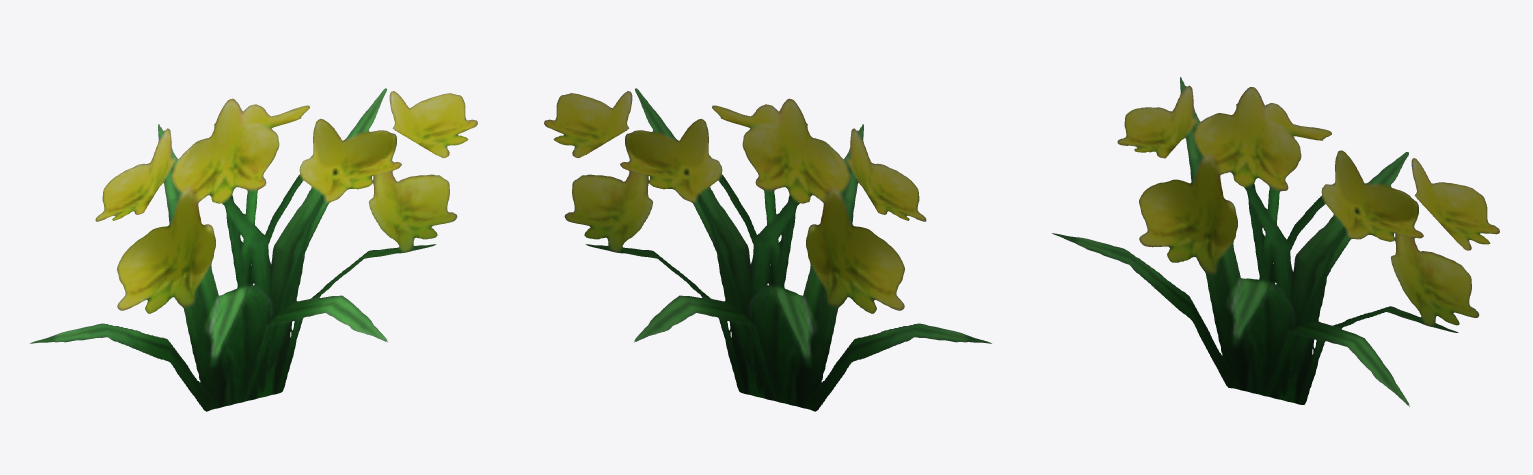
3 views of the same model, side by side, from view 1: azimuth 30°, elevation 25°; view 2: azimuth 150°, elevation 25°; view 3: azimuth 330°, elevation 25° (orthographic).
Parts seen in each view (by area): view 1: 草丛007; view 2: 草丛007; view 3: 草丛007.
Boxes of the visible parts, x1,y1,x2,y2 form: 草丛007: [30, 88, 477, 411]; 草丛007: [544, 88, 991, 411]; 草丛007: [1052, 77, 1499, 406].
Bounding box in the file's own units: 112 × 72.81 × 1.6e-05.
1 material, 1 textured.
